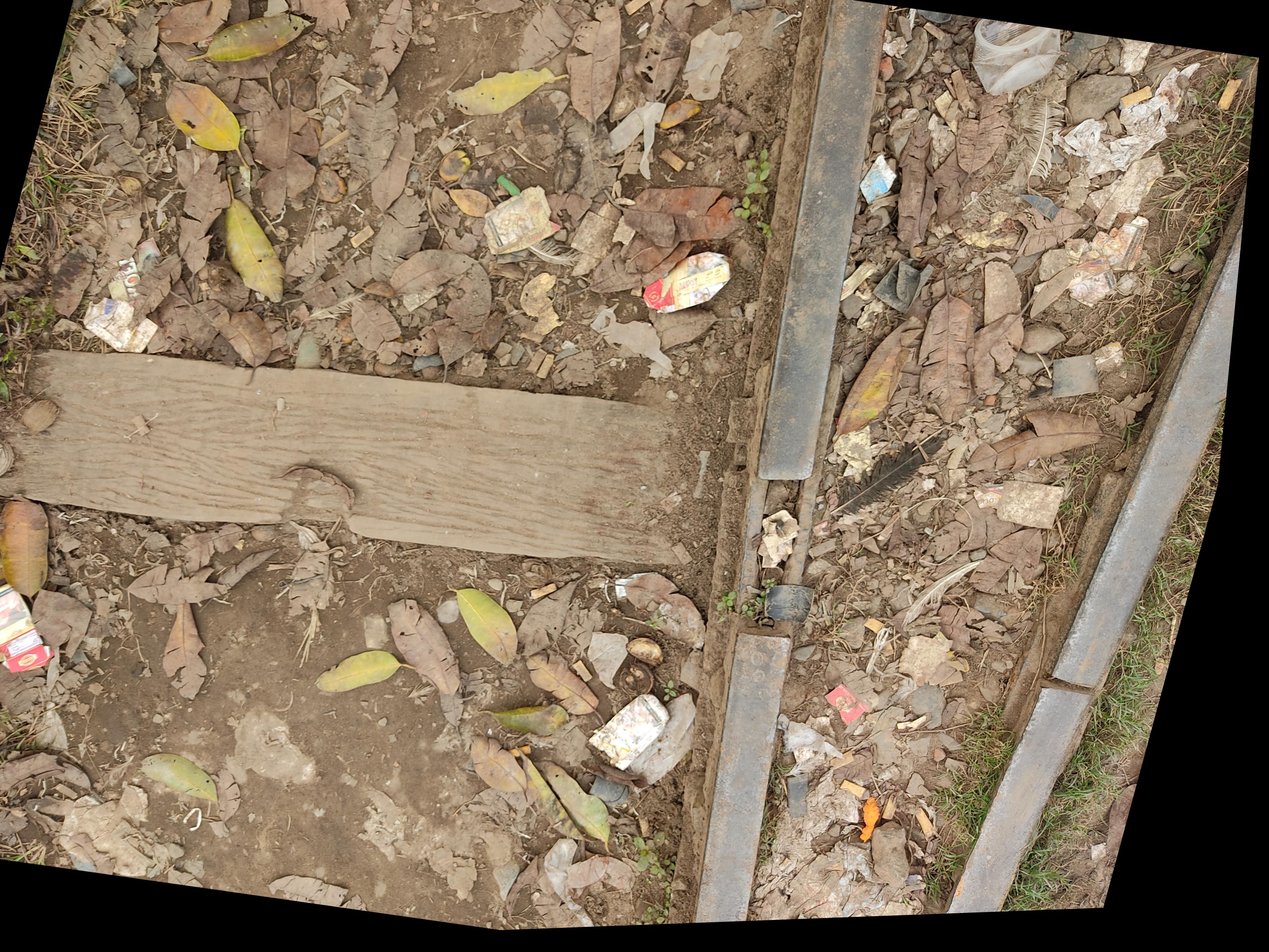person: (281, 614, 391, 765), (455, 730, 520, 795)
